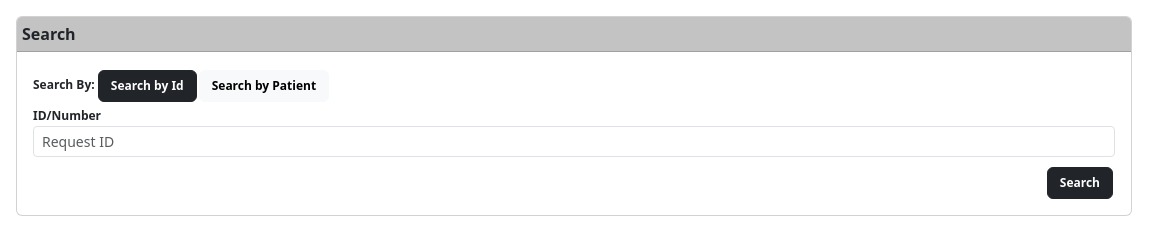
Test case: SearchRequestView Component › switches to Name search form when Name search button is clicked
This screenshot has width=1149, height=233.
What coordinates should you click on to do the following:
click the button "Search by Patient"
I would click on:
 (264, 86)
Its box is [199,70,329,102].
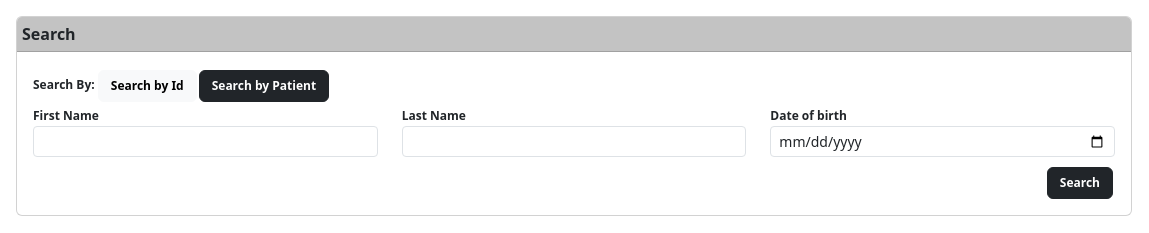
Expected: the text "First Name" is shown, [33,107,99,125]
Expected: the text "Last Name" is shown, [402,107,466,125]
Expected: the text "Date of birth" is shown, [770,107,847,125]
